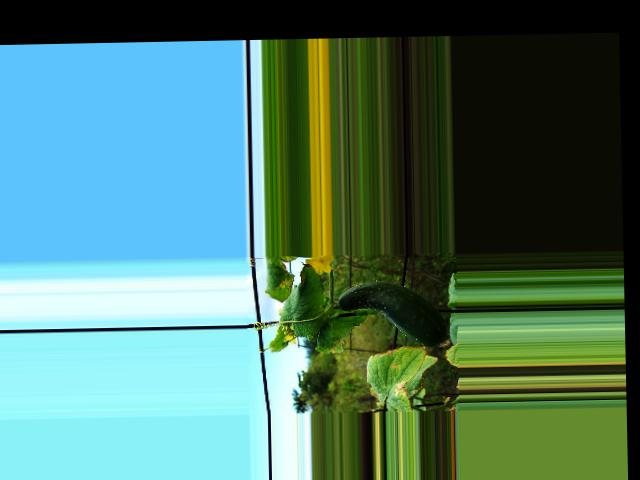cucumber: (336, 280, 447, 349)
